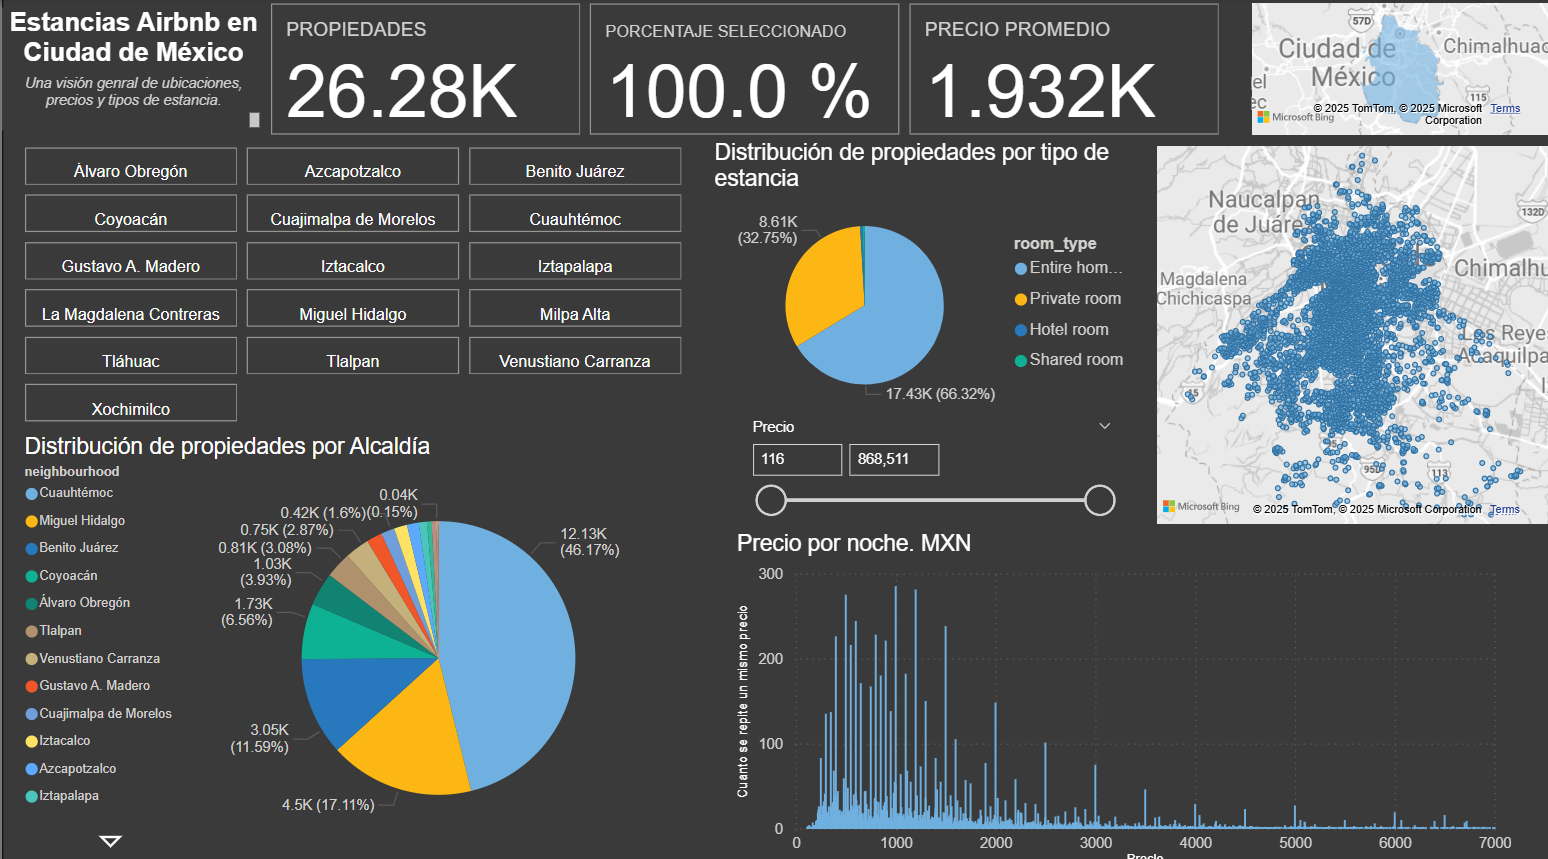

What the dashboard file says about the page in this screenshot:
{"tool":"powerbi","page":{"name":"Dashboard","canvas":[1280,720],"ordinal":0},"visuals":[{"type":"advancedSlicerVisual","fields":{"Values":["Sheet1.neighbourhood"]},"box":[13.7,118,553,241.5],"z":0},{"type":"map","fields":{"Y":["Sheet1.latitude"],"X":["Sheet1.longitude"]},"box":[946.2,117.6,333.9,321.7],"z":1000},{"type":"filledMap","fields":{"Category":["Sheet1.Mapa_Alcaldia"]},"box":[1024.4,0,256.4,118.6],"z":2000},{"type":"pieChart","title":"Distribución de propiedades por Alcaldía","fields":{"Category":["Sheet1.neighbourhood"],"Y":["CountNonNull(Sheet1.neighbourhood)"]},"box":[13.7,359.5,553,348.6],"z":3000},{"type":"cardVisual","title":"propiedades","fields":{"Data":["Sheet1.TOTAL PROPIEDADES","Sheet1.PercentageSelected","Sheet1.PROMEDIO PRECIOS"]},"box":[216.7,0,791.7,118.3],"z":4000},{"type":"pieChart","title":"Distribución de propiedades por tipo de estancia","fields":{"Category":["Sheet1.room_type"],"Y":["CountNonNull(Sheet1.room_type)"]},"box":[582.6,117.6,363.6,231.1],"z":5000},{"type":"textbox","title":"Estancias Airbnb en Ciudad de México","box":[0,8.2,216.8,101.6],"z":6000},{"type":"columnChart","title":"Precio por noche. MXN","fields":{"Category":["Sheet1.price"],"Y":["CountNonNull(Sheet1.price)"]},"box":[600.2,439.3,647.5,281.2],"z":7000},{"type":"slicer","fields":{"Values":["Sheet1.price"]},"box":[605.6,342,320.4,97.3],"z":8000}]}

Visuals, with their boxes in screenshot pixels (x1, y1, x2, y2), scaled from the page's 1280x720 canvas onto the 1548x859 screenshot:
advancedSlicerVisual - Sheet1.neighbourhood: {"left": 17, "top": 141, "right": 685, "bottom": 429}
map - Sheet1.latitude x Sheet1.longitude: {"left": 1144, "top": 140, "right": 1547, "bottom": 524}
filledMap - Sheet1.Mapa_Alcaldia: {"left": 1239, "top": 0, "right": 1547, "bottom": 141}
"Distribución de propiedades por Alcaldía" pieChart: {"left": 17, "top": 429, "right": 685, "bottom": 845}
"propiedades" cardVisual: {"left": 262, "top": 0, "right": 1220, "bottom": 141}
"Distribución de propiedades por tipo de estancia" pieChart: {"left": 705, "top": 140, "right": 1144, "bottom": 416}
"Estancias Airbnb en Ciudad de México" textbox: {"left": 0, "top": 10, "right": 262, "bottom": 131}
"Precio por noche. MXN" columnChart: {"left": 726, "top": 524, "right": 1509, "bottom": 858}
slicer - Sheet1.price: {"left": 732, "top": 408, "right": 1120, "bottom": 524}
